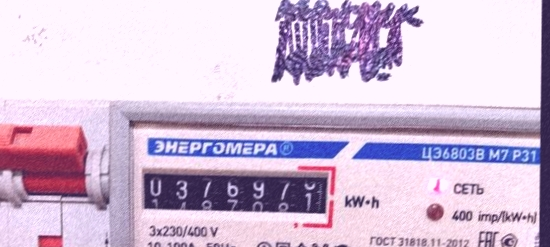0: (147, 175, 163, 196)
1: (303, 191, 314, 212)
3: (174, 177, 188, 200)
6: (226, 176, 239, 197)
7: (200, 175, 213, 199), (277, 177, 290, 201)
9: (251, 177, 264, 199)
screen: (134, 161, 338, 231)
